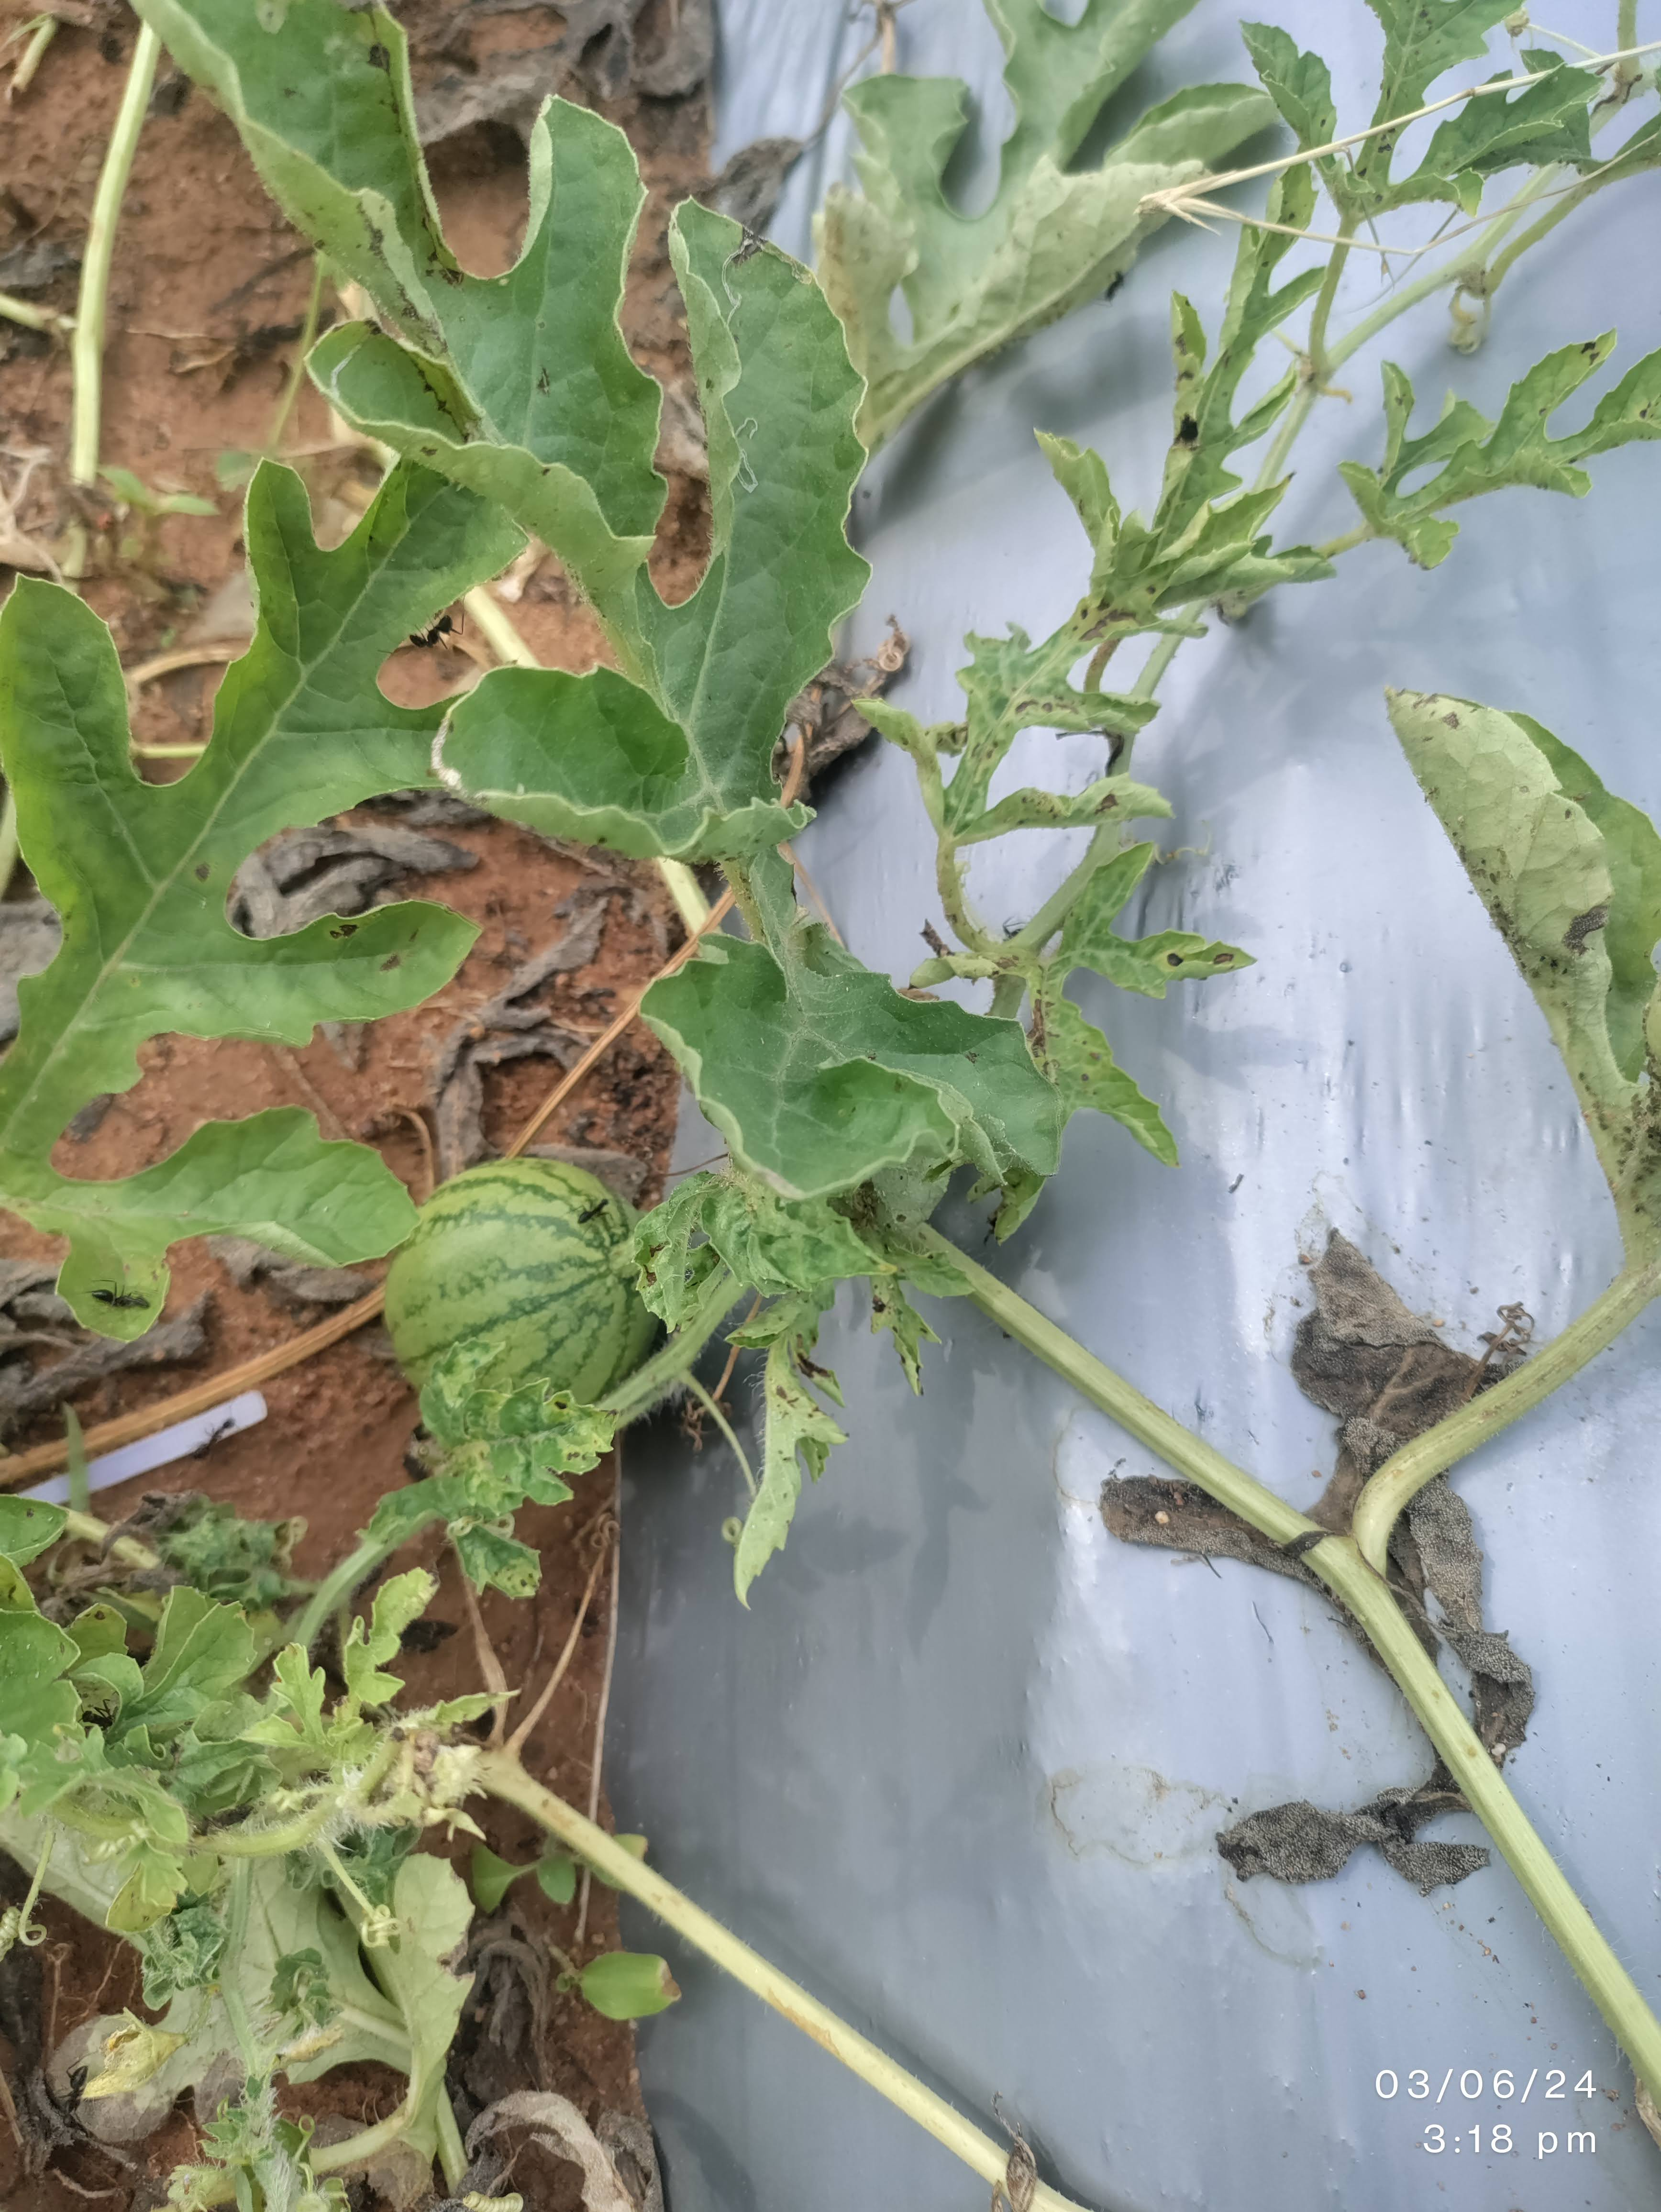good-to-harvest: (361, 1103, 703, 1457)
